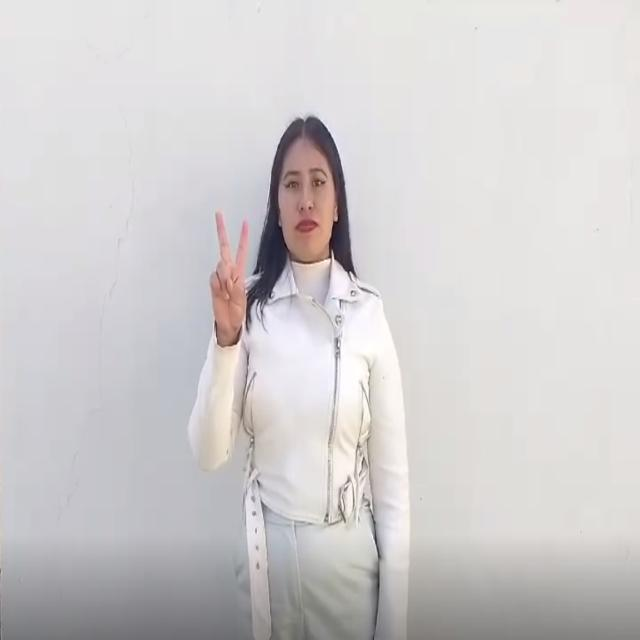V: (198, 200, 260, 345)
